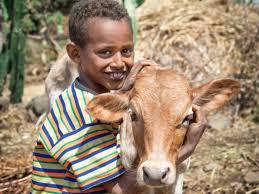cow: (86, 68, 241, 190)
